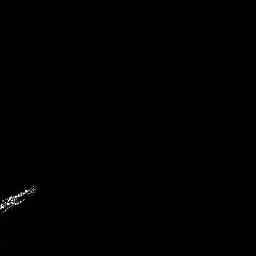ship: (1, 181, 41, 220)
